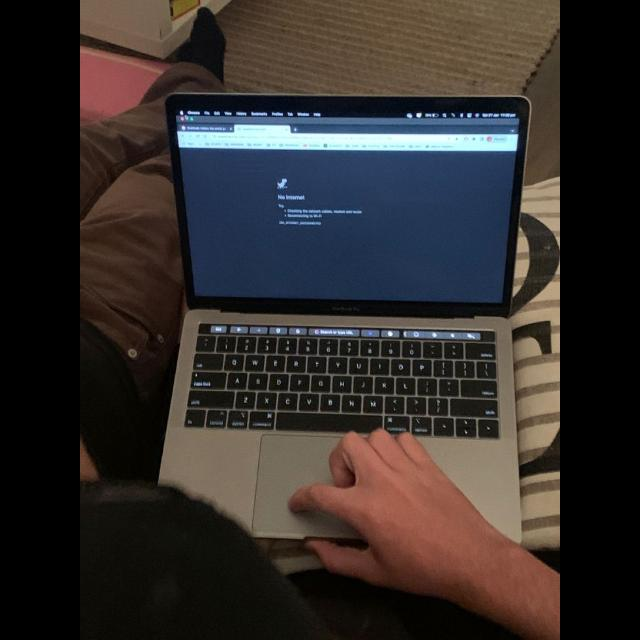laptop: (159, 92, 530, 541)
